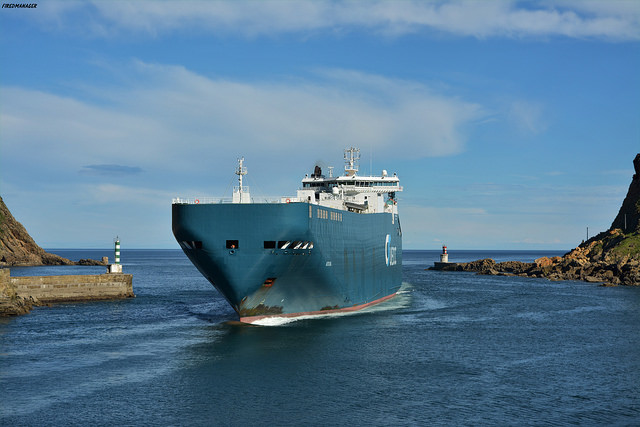PCC: (170, 146, 405, 328)
